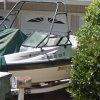Boat: (1, 37, 74, 92)
